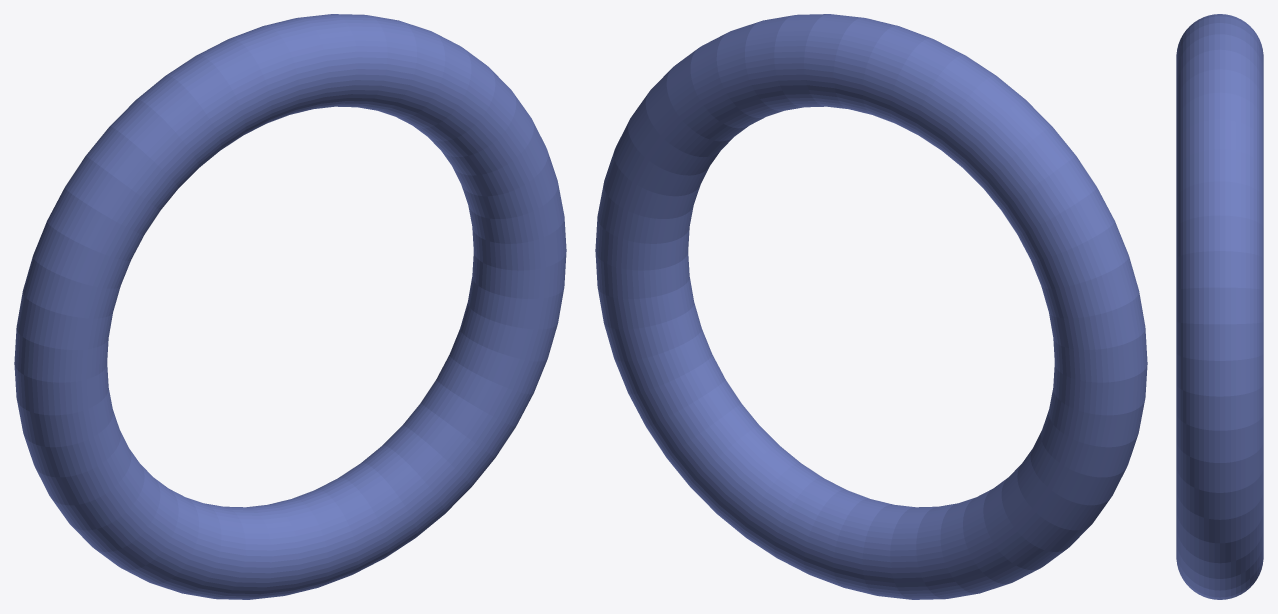
3 views of the same model, side by side, from view 1: azimuth 30°, elevation 25°; view 2: azimuth 150°, elevation 25°; view 3: azimuth 270°, elevation 25° (orthographic). The views are drawn at different scales.
Parts seen in each view (by area): view 1: world; view 2: world; view 3: world.
Boxes of the visible parts, x1=… form: world: x1=14, y1=14, x2=566, y2=599; world: x1=595, y1=14, x2=1147, y2=599; world: x1=1176, y1=14, x2=1263, y2=599.
Bounding box in the file's own units: 18.8 × 18.76 × 2.79.
